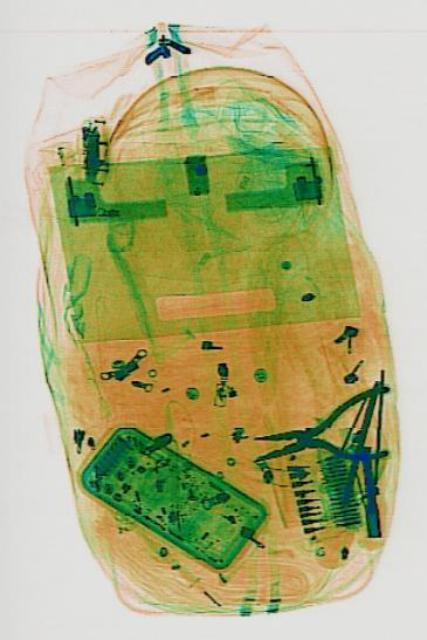Pliers: (247, 382, 395, 484)
